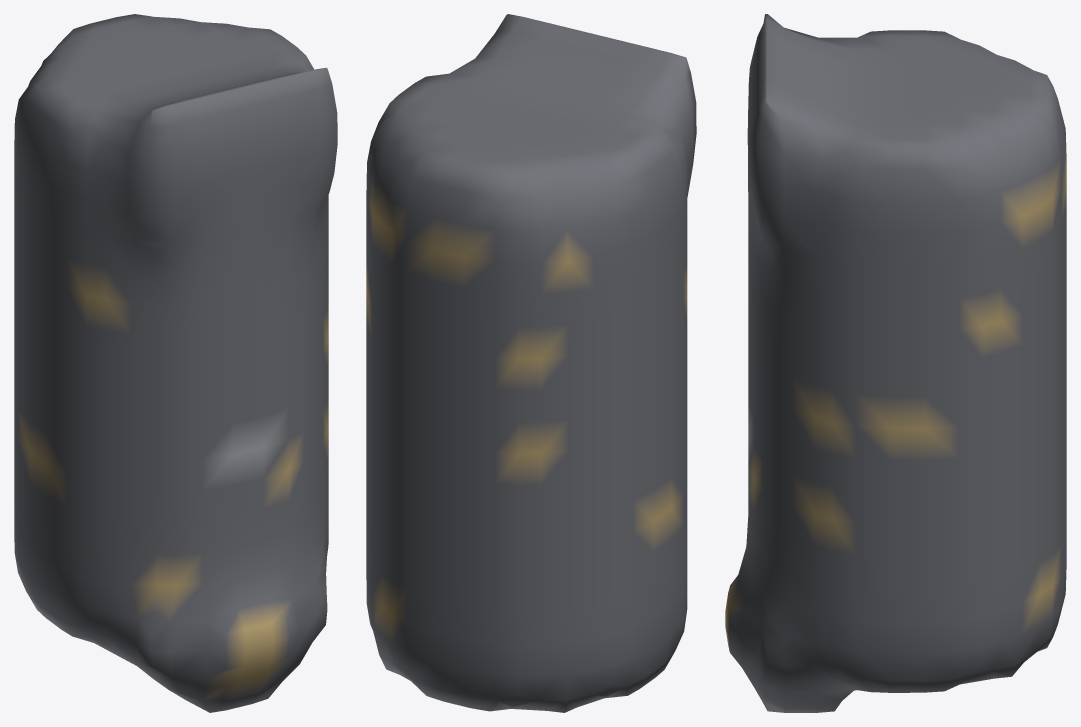
The model's file is plate_rare_leg_L_lod1.glb.
3 views of the same model, side by side, from view 1: azimuth 30°, elevation 25°; view 2: azimuth 150°, elevation 25°; view 3: azimuth 270°, elevation 25° (orthographic). The views are drawn at different scales.
Parts seen in each view (by area): view 1: plate_rare_leg_L_lod1; view 2: plate_rare_leg_L_lod1; view 3: plate_rare_leg_L_lod1.
Boxes of the visible parts, x1,y1,x2,y2 form: plate_rare_leg_L_lod1: (14,14,337,712); plate_rare_leg_L_lod1: (366,14,696,712); plate_rare_leg_L_lod1: (725,14,1066,712).
Bounding box in the file's own units: 0.215 × 0.4791 × 0.2308.
